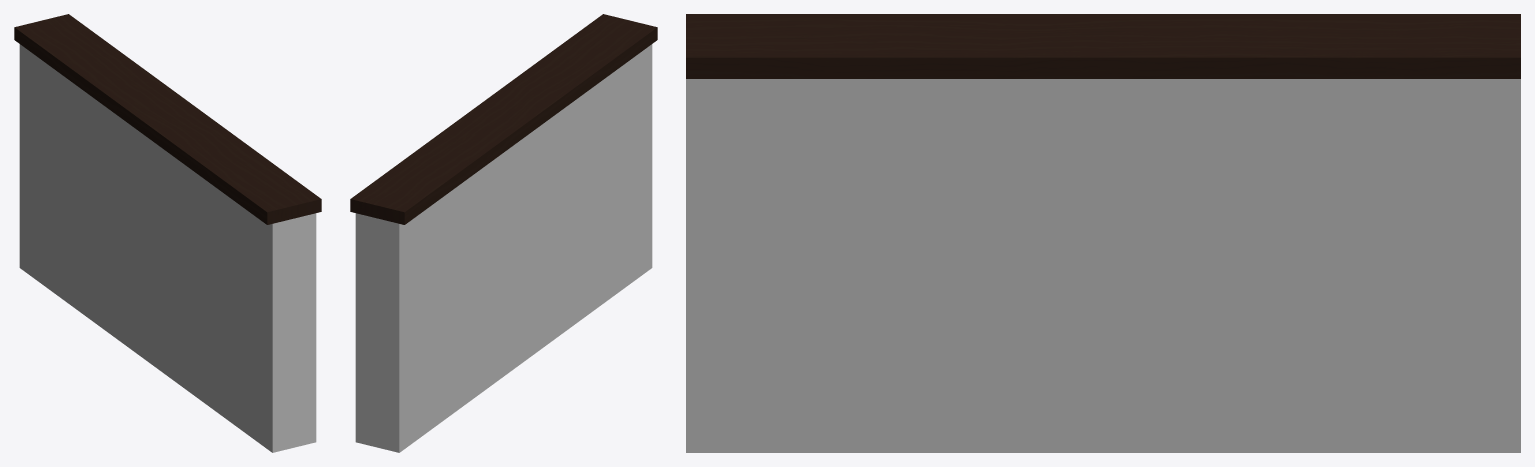
Rendered from Half_Wall_03_B.FBX.
3 views of the same model, side by side, from view 1: azimuth 30°, elevation 25°; view 2: azimuth 150°, elevation 25°; view 3: azimuth 270°, elevation 25° (orthographic). The views are drawn at different scales.
Visible parts, largest first — view 1: Half_Wall_5m _2p5m_halfm; view 2: Half_Wall_5m _2p5m_halfm; view 3: Half_Wall_5m _2p5m_halfm.
Part boxes in pixels (x1=…): Half_Wall_5m _2p5m_halfm: x1=14, y1=14, x2=321, y2=452; Half_Wall_5m _2p5m_halfm: x1=350, y1=14, x2=657, y2=452; Half_Wall_5m _2p5m_halfm: x1=686, y1=14, x2=1520, y2=452.
Size of the model in its own units: 2441 by 10394 by 19685.
